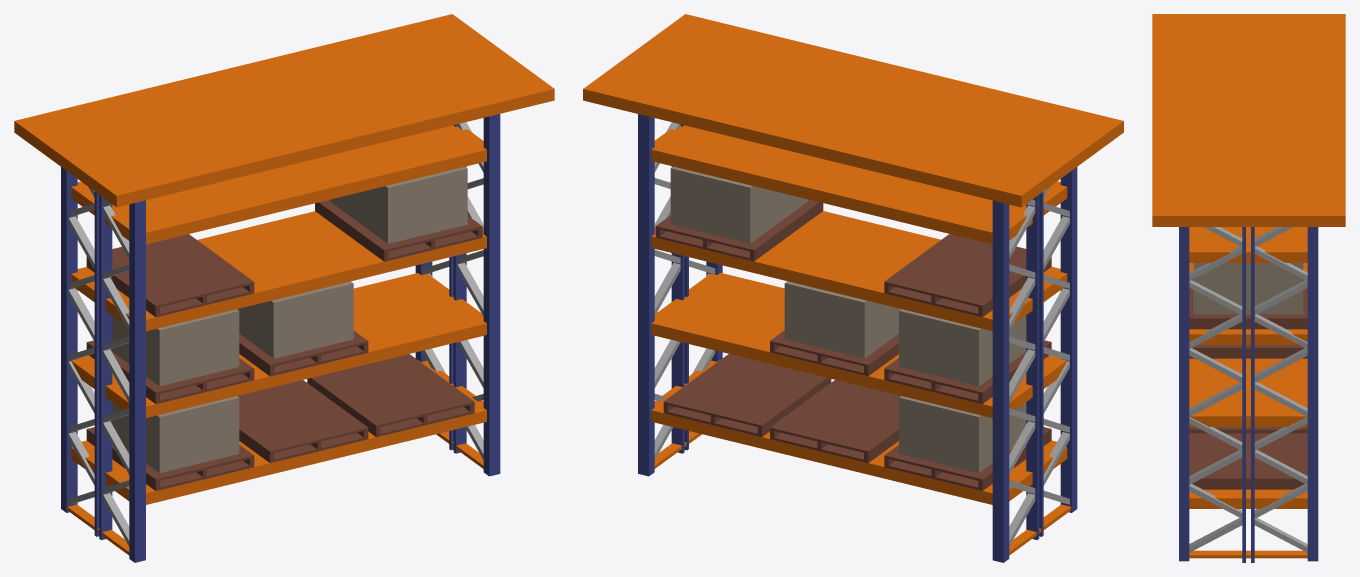
Rendered from Warehouse_Racks 1.fbx.
3 views of the same model, side by side, from view 1: azimuth 30°, elevation 25°; view 2: azimuth 150°, elevation 25°; view 3: azimuth 270°, elevation 25° (orthographic). The views are drawn at different scales.
Visible parts, largest first — view 1: Cube.099, Cube.076, Cube.077, Cube.056, Cube.109, Cube.108, Cube.103, Cube.106, Cube.107, Cube.091, Cube.084, Cube.092 (+2 smaller); view 2: Cube.099, Cube.076, Cube.077, Cube.056, Cube.109, Cube.108, Cube.103, Cube.106, Cube.107, Cube.091, Cube.084, Cube.092 (+2 smaller); view 3: Cube.077, Cube.076, Cube.099, Cube.056, Cube.103, Cube.106, Cube.091, Cube.092, Cube.090, Cube.111, Cube.107.
Boxes of the visible parts, left/top/right/bottom form: Cube.099: left=71, top=125, right=486, bottom=504; Cube.076: left=14, top=67, right=338, bottom=207; Cube.077: left=236, top=14, right=554, bottom=153; Cube.056: left=61, top=114, right=500, bottom=562; Cube.109: left=112, top=309, right=239, bottom=472; Cube.108: left=86, top=234, right=254, bottom=490; Cube.103: left=68, top=122, right=483, bottom=546; Cube.106: left=307, top=354, right=474, bottom=437; Cube.107: left=237, top=380, right=368, bottom=462; Cube.091: left=330, top=167, right=467, bottom=243; Cube.084: left=237, top=281, right=353, bottom=358; Cube.092: left=315, top=199, right=482, bottom=261; Cube.099: left=651, top=125, right=1067, bottom=504; Cube.076: left=799, top=67, right=1123, bottom=207; Cube.077: left=583, top=14, right=901, bottom=154; Cube.056: left=638, top=114, right=1077, bottom=562; Cube.109: left=899, top=309, right=1026, bottom=472; Cube.108: left=884, top=234, right=1051, bottom=490; Cube.103: left=654, top=122, right=1069, bottom=546; Cube.106: left=663, top=354, right=831, bottom=436; Cube.107: left=770, top=380, right=900, bottom=462; Cube.091: left=670, top=166, right=808, bottom=243; Cube.084: left=784, top=281, right=900, bottom=358; Cube.092: left=655, top=199, right=823, bottom=261; Cube.077: left=1152, top=116, right=1345, bottom=226; Cube.076: left=1152, top=14, right=1345, bottom=115; Cube.099: left=1189, top=227, right=1307, bottom=508; Cube.056: left=1179, top=227, right=1318, bottom=562; Cube.103: left=1189, top=227, right=1307, bottom=552; Cube.106: left=1189, top=433, right=1307, bottom=489; Cube.091: left=1193, top=263, right=1303, bottom=314; Cube.092: left=1189, top=279, right=1307, bottom=329; Cube.090: left=1189, top=345, right=1307, bottom=358; Cube.111: left=1189, top=550, right=1307, bottom=558; Cube.107: left=1189, top=427, right=1307, bottom=433.
Bounding box in the file's own units: 1113 × 940 × 450.
